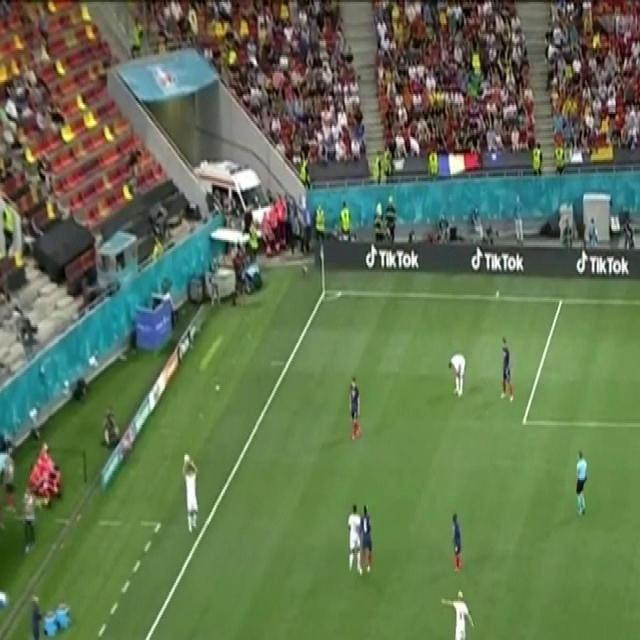ball: (182, 450, 192, 464)
player-white: (439, 588, 475, 640), (180, 451, 200, 535), (345, 499, 365, 576), (358, 500, 374, 579), (498, 334, 515, 406), (574, 447, 590, 519), (446, 348, 468, 400), (348, 375, 362, 443), (450, 512, 464, 574)
